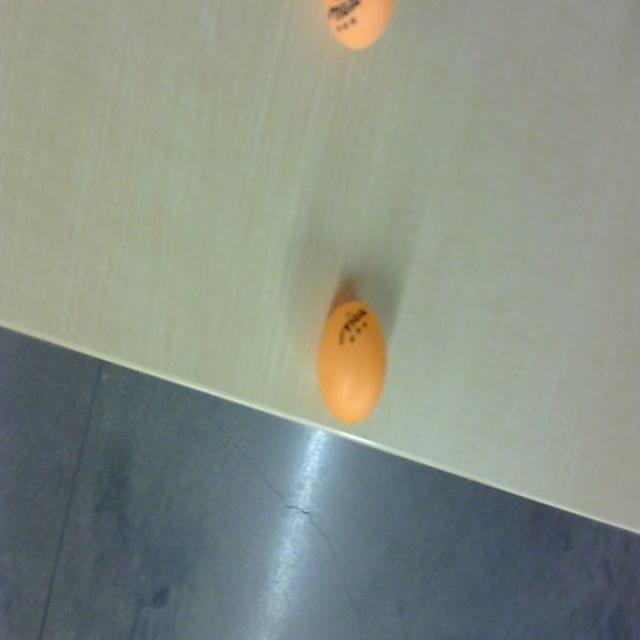ball: (319, 297, 387, 428), (323, 0, 393, 55)
